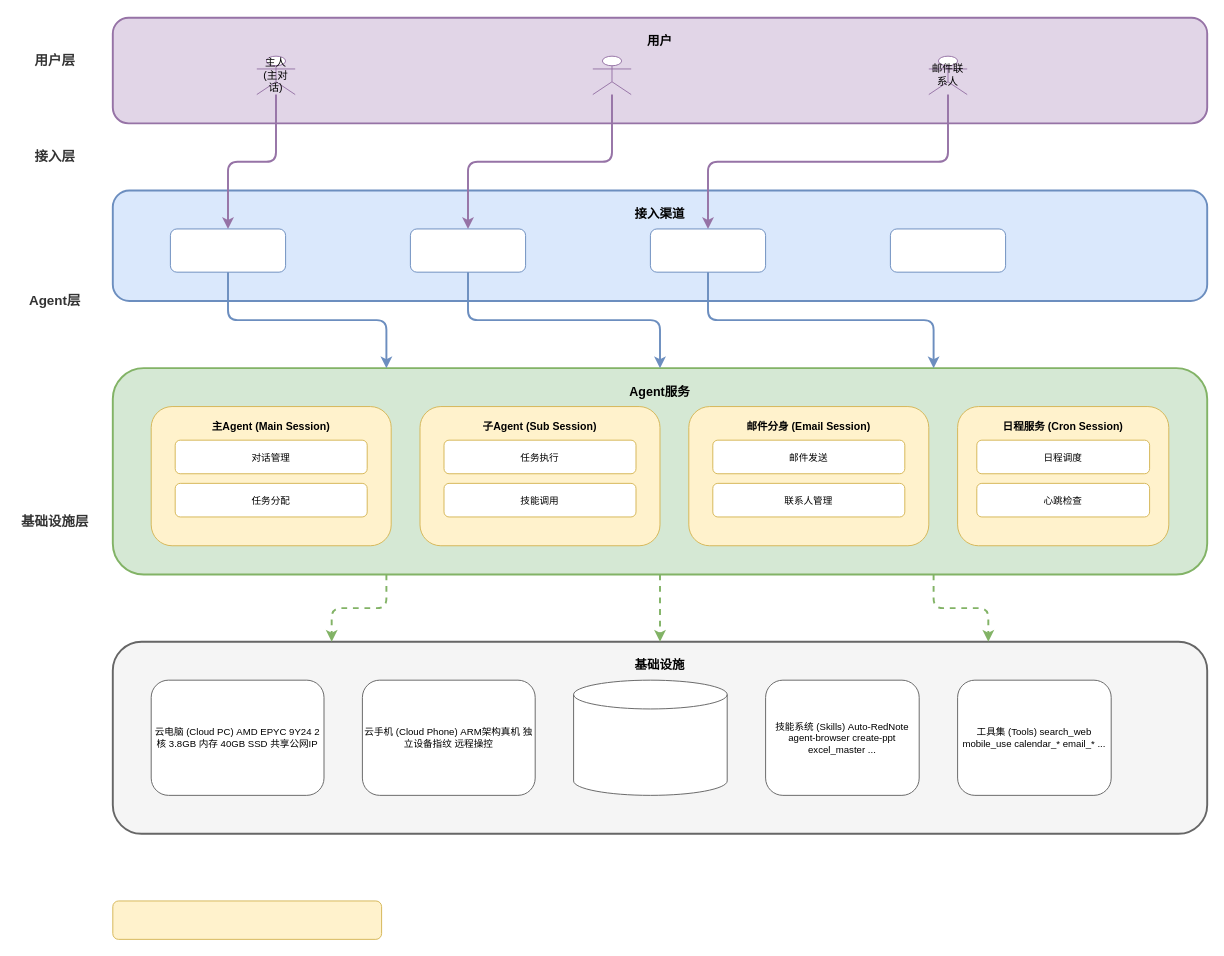
Some shapes in this 1224 by 956 pixel diagram are drawn without their labels. Here are the shapes that lost their labels. From the top down, the centre of each, then its label:
At (611,75): "其他用户 (单聊/群聊)".
At (227,250): "扣子APP/网页 (Coze)".
At (467,250): "飞书 (Feishu)".
At (707,250): "邮箱 (Email)".
At (947,250): "微信 (WeChat)".
At (650,737): "云存储 (Cloud Storage) 文件系统 技能资源 记忆持久化".
At (247,919): "⚠️ 当前云电脑使用共享公网IP 多账号运营需配置独立代理IP".
